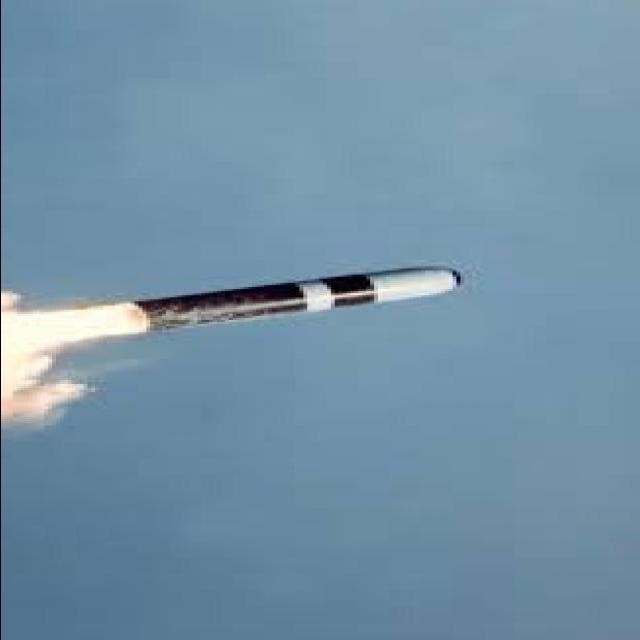missile: (122, 264, 499, 331)
